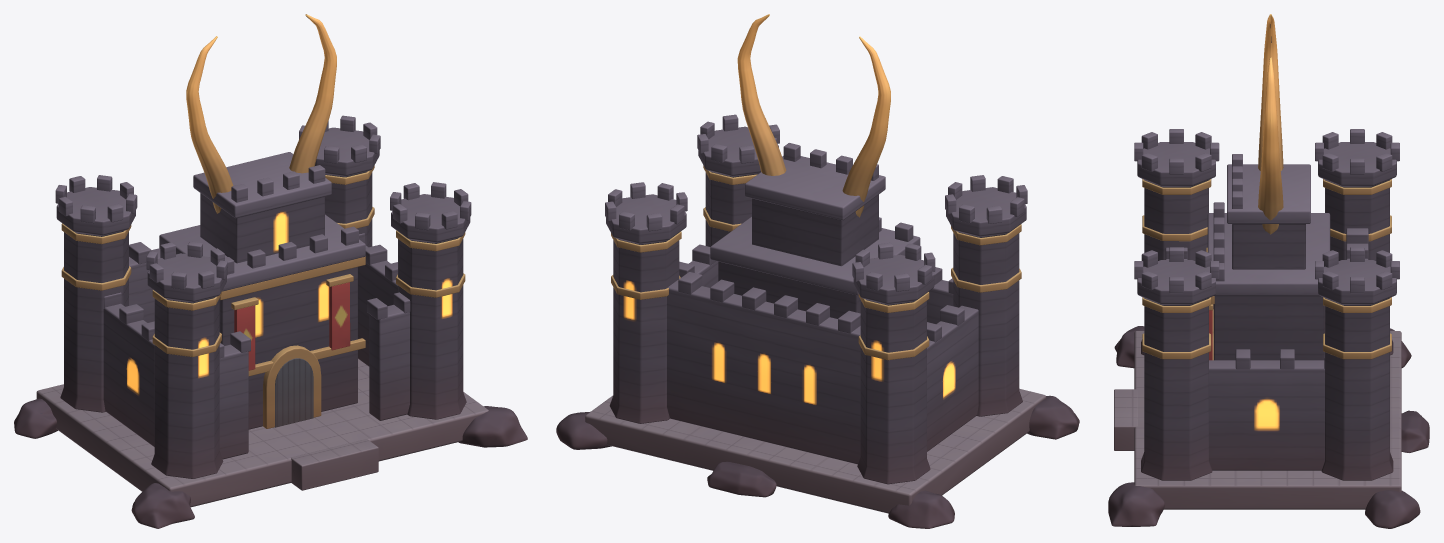
File: EF_B05_FortressFar.fbx
The picture shows the model from 3 angles, left to right: view 1: azimuth 30°, elevation 25°; view 2: azimuth 150°, elevation 25°; view 3: azimuth 270°, elevation 25°; orthographic projection. The views are drawn at different scales.
Parts seen in each view (by area): view 1: Towers_LOD0, Base_LOD0, Keep_LOD0, Walls_LOD0, Trim_LOD0, Gate_LOD0; view 2: Towers_LOD0, Walls_LOD0, Base_LOD0, Keep_LOD0, Trim_LOD0; view 3: Towers_LOD0, Keep_LOD0, Base_LOD0, Walls_LOD0, Trim_LOD0.
Boxes of the visible parts, x1,y1,x2,y2 form: Towers_LOD0: (55,115,471,478); Base_LOD0: (14,359,527,528); Keep_LOD0: (159,152,365,429); Walls_LOD0: (103,233,410,459); Trim_LOD0: (61,14,465,376); Gate_LOD0: (263,345,321,428); Towers_LOD0: (605,114,1027,484); Walls_LOD0: (667,244,978,464); Base_LOD0: (556,388,1079,528); Keep_LOD0: (710,143,920,318); Trim_LOD0: (611,14,1021,360); Towers_LOD0: (1134,129,1399,480); Keep_LOD0: (1207,154,1330,360); Base_LOD0: (1108,326,1429,528); Walls_LOD0: (1165,228,1368,470); Trim_LOD0: (1142,14,1391,360).
Size of what is drawn, in the model's own units: 22 by 22 by 16.
